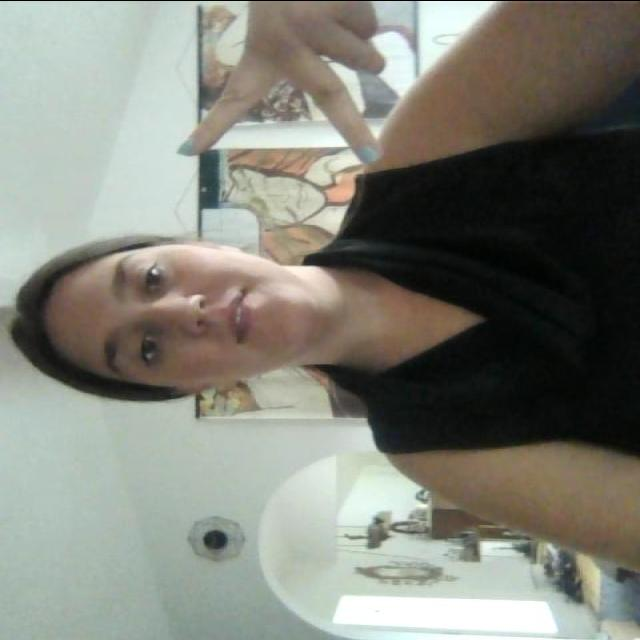Scissors: (166, 0, 416, 174)
